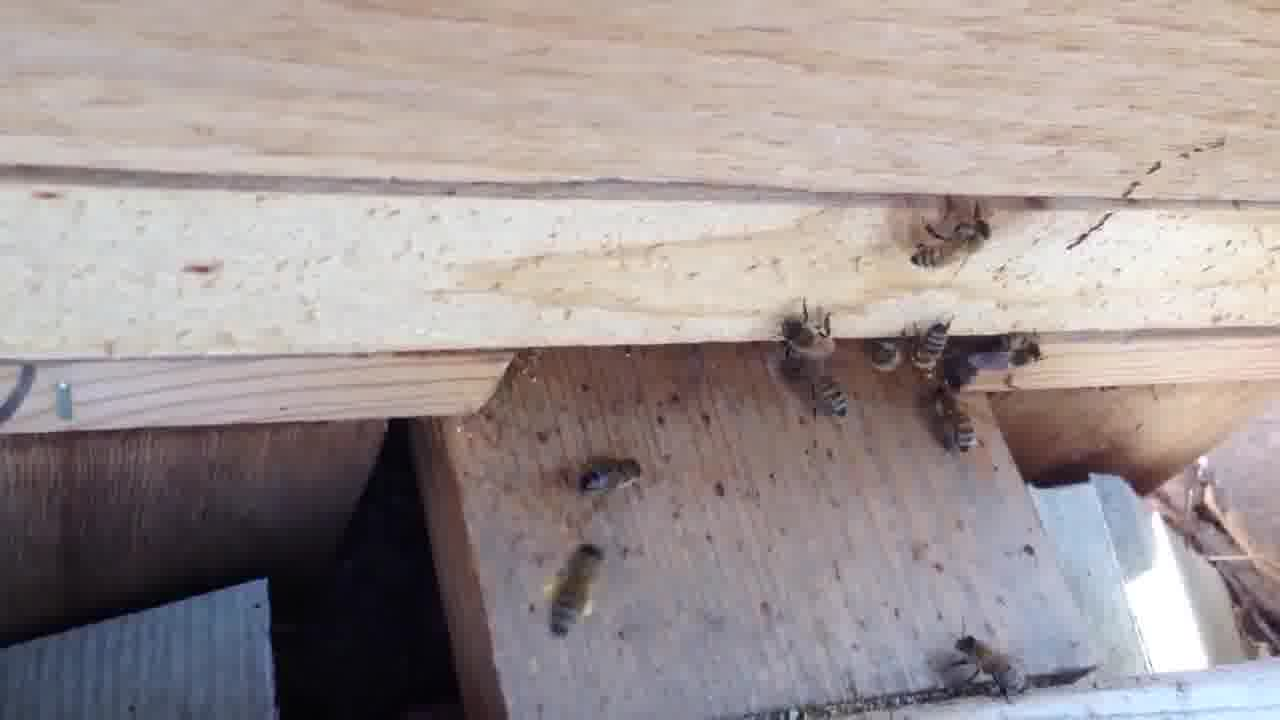pollen: (534, 536, 608, 636)
